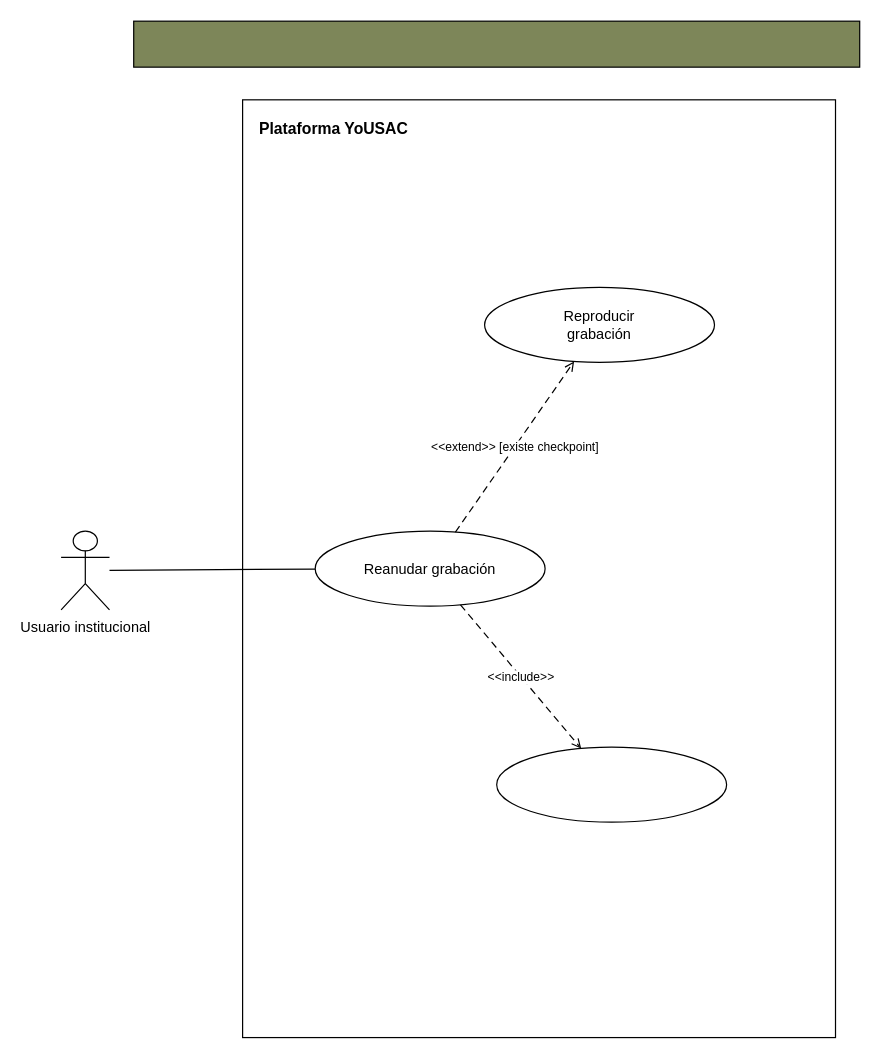
Some shapes in this 881 by 1059 pixel diagram are drawn without their labels. The box of each missing label's shape, as (x1, y1, x2, y2) in pixels:
Plataforma YoUSAC — CU-RP-02 — Reanudar grabación: (132, 20, 860, 67)
Recuperar checkpoint: (495, 746, 727, 822)
